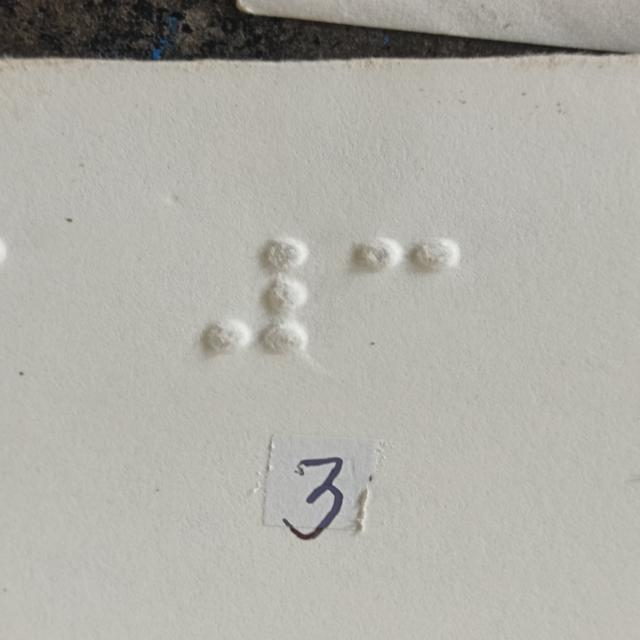3: (351, 238, 457, 356)
number: (202, 239, 308, 357)
